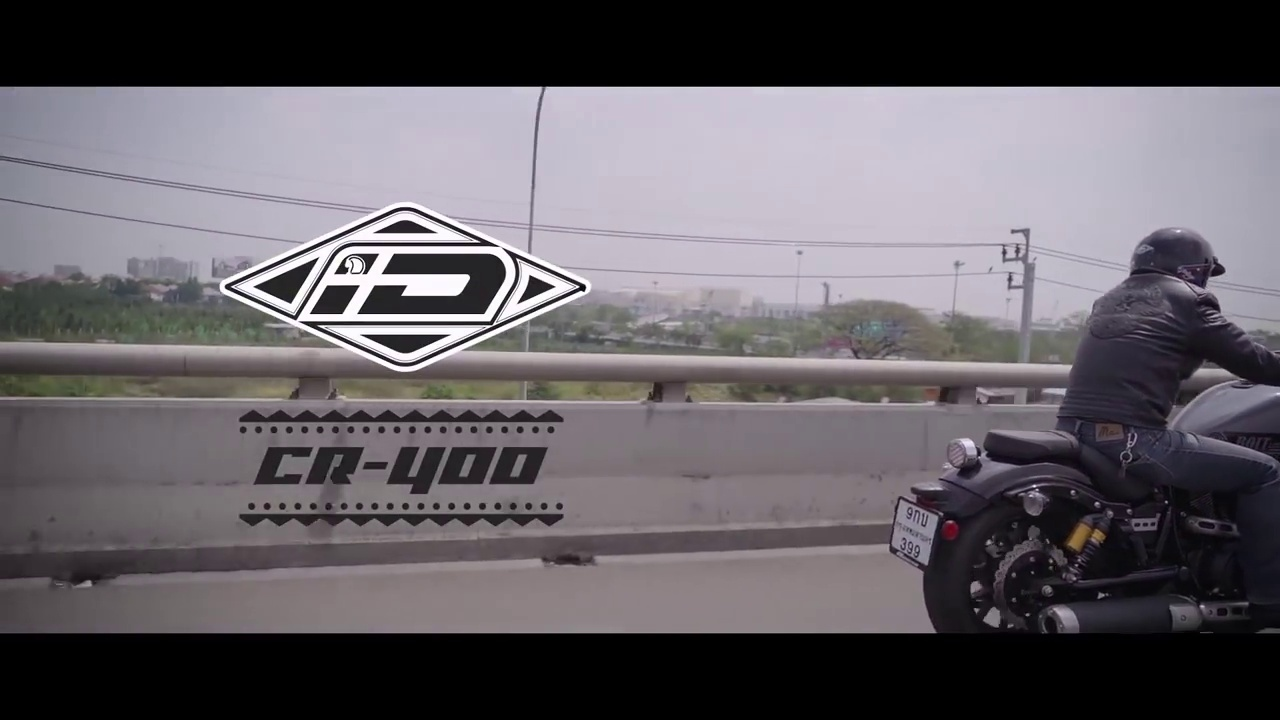helmet: (1127, 208, 1229, 284)
